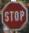Stop sign: (0, 0, 28, 32)
